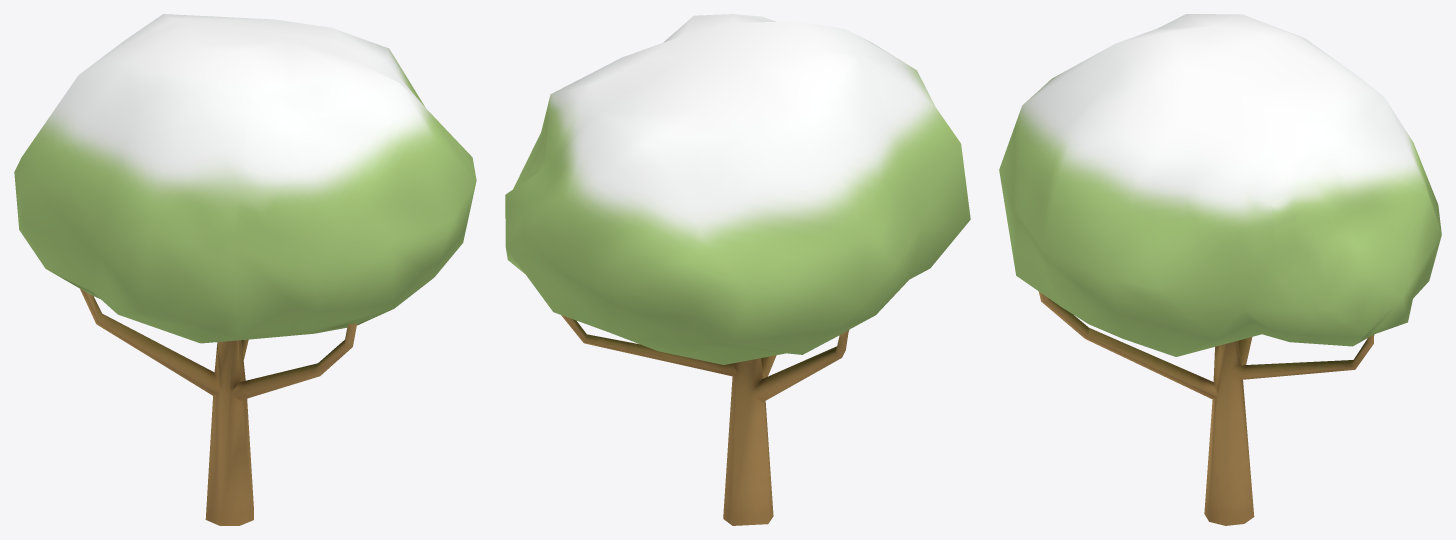
The picture shows the model from 3 angles, left to right: view 1: azimuth 30°, elevation 25°; view 2: azimuth 150°, elevation 25°; view 3: azimuth 270°, elevation 25°; orthographic projection. The views are drawn at different scales.
Parts seen in each view (by area): view 1: wBig tree; view 2: wBig tree; view 3: wBig tree.
Part boxes in pixels (<box>): wBig tree: <box>14,14,476,525</box>; wBig tree: <box>505,14,970,525</box>; wBig tree: <box>999,14,1441,525</box>.
Size of the model in its own units: 16.17 by 19.71 by 16.67.
1 material, 1 textured.
